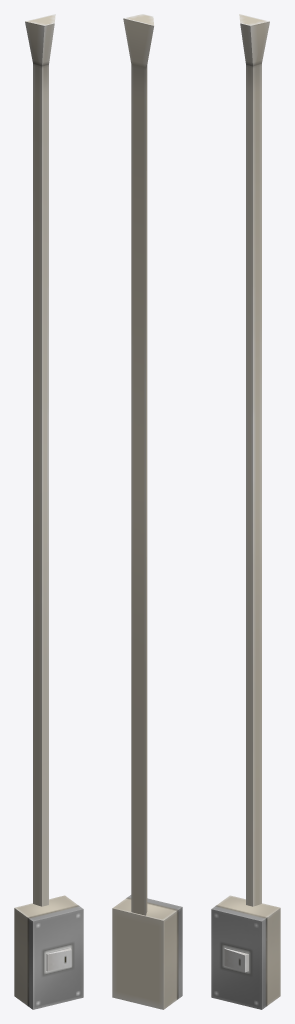
The model's file is SHW_Ceiling_parts_01_03.fbx.
The picture shows the model from 3 angles, left to right: view 1: azimuth 30°, elevation 25°; view 2: azimuth 150°, elevation 25°; view 3: azimuth 330°, elevation 25°; orthographic projection.
Parts seen in each view (by area): view 1: shw_ceiling_parts_02, switch1; view 2: shw_ceiling_parts_02; view 3: shw_ceiling_parts_02, switch1.
Part boxes in pixels (<box>): shw_ceiling_parts_02: <box>14,14,83,1009</box>; switch1: <box>46,948,71,971</box>; shw_ceiling_parts_02: <box>112,14,182,1009</box>; shw_ceiling_parts_02: <box>211,14,280,1009</box>; switch1: <box>224,948,248,972</box>.
Bounding box in the file's own units: 6 × 110 × 4.34.
